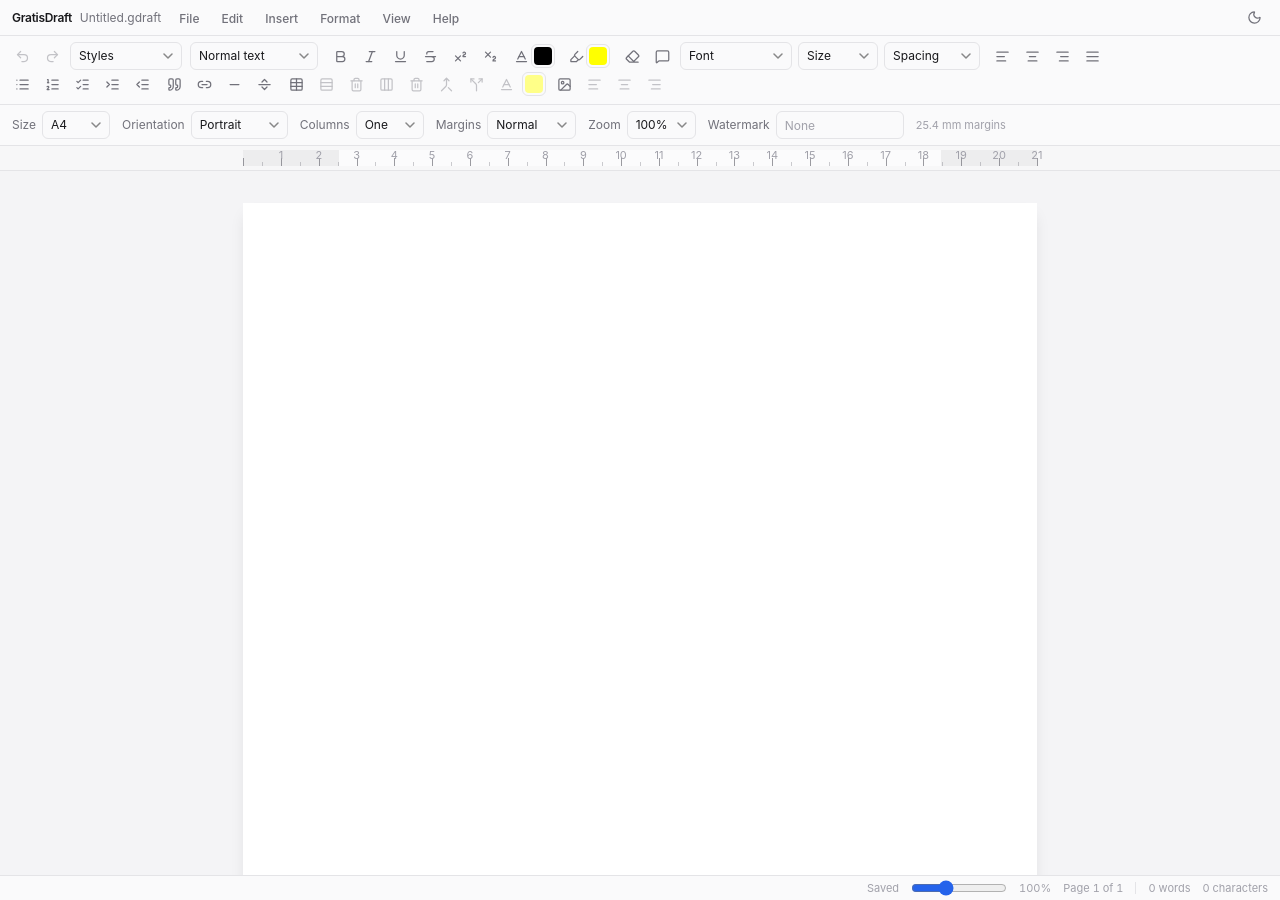
Test: App shell › has a style preset select and opens the character dialog
expect the dropdown named "Style preset" is shown: met, box x1=70 y1=42 x2=182 y2=70
Step 1. Click the button "Format" → (340, 18), box x1=310 y1=6 x2=370 y2=30
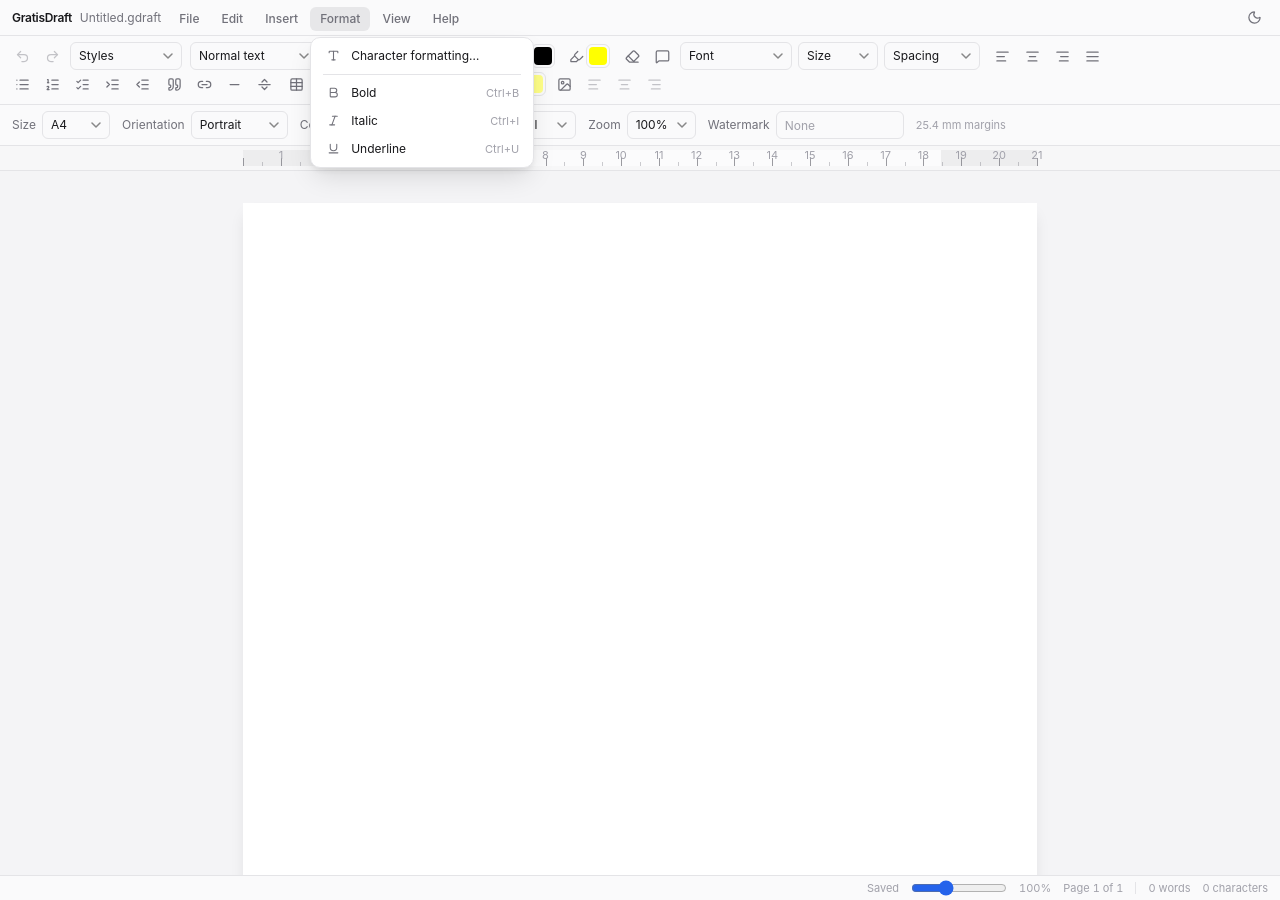
Step 2. Click the menu item "Character formatting…" → (422, 56), box x1=315 y1=42 x2=529 y2=70
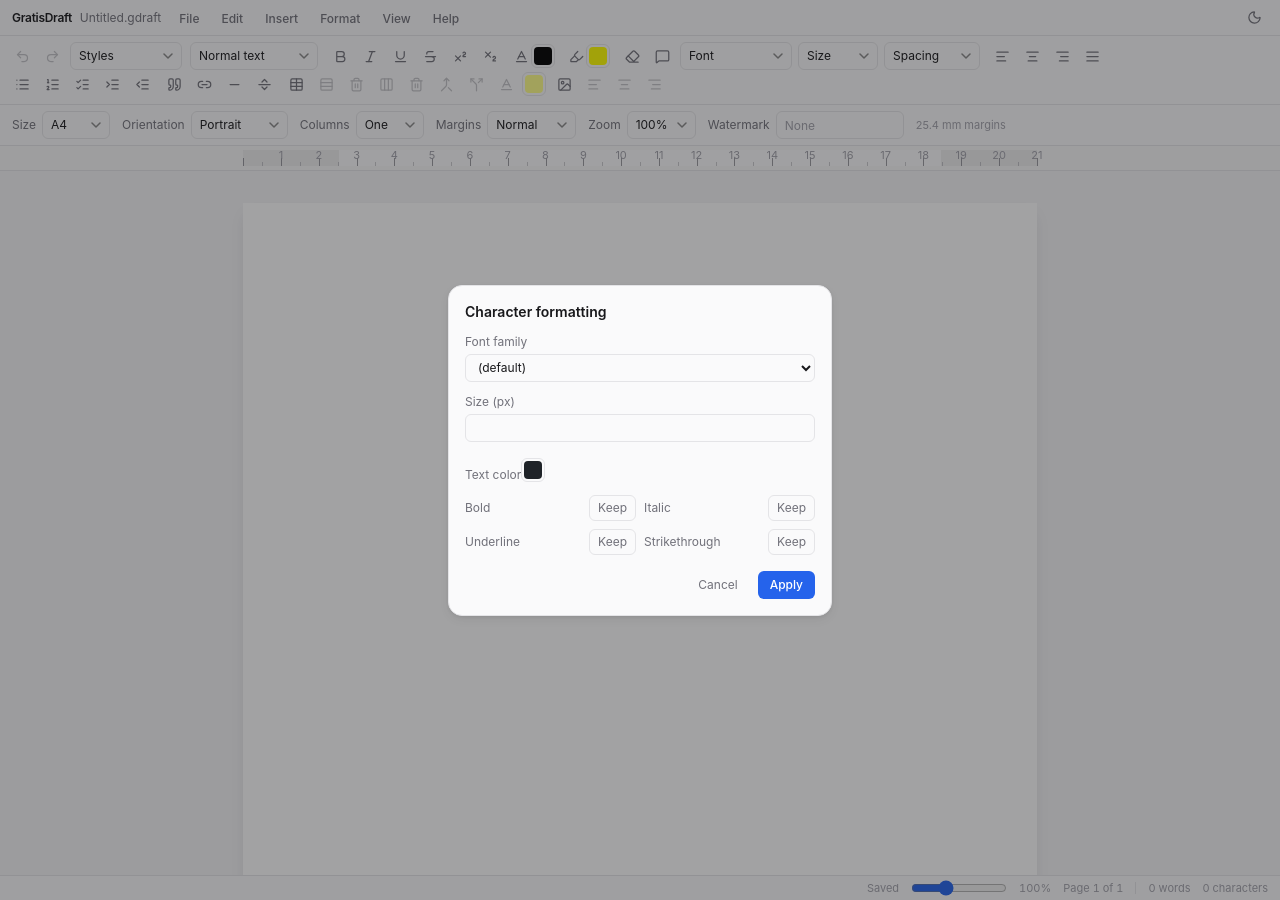
expect the element with test id "character-dialog" is shown: met
Step 3. Click the button "Cancel" → (718, 584), box x1=686 y1=570 x2=750 y2=598
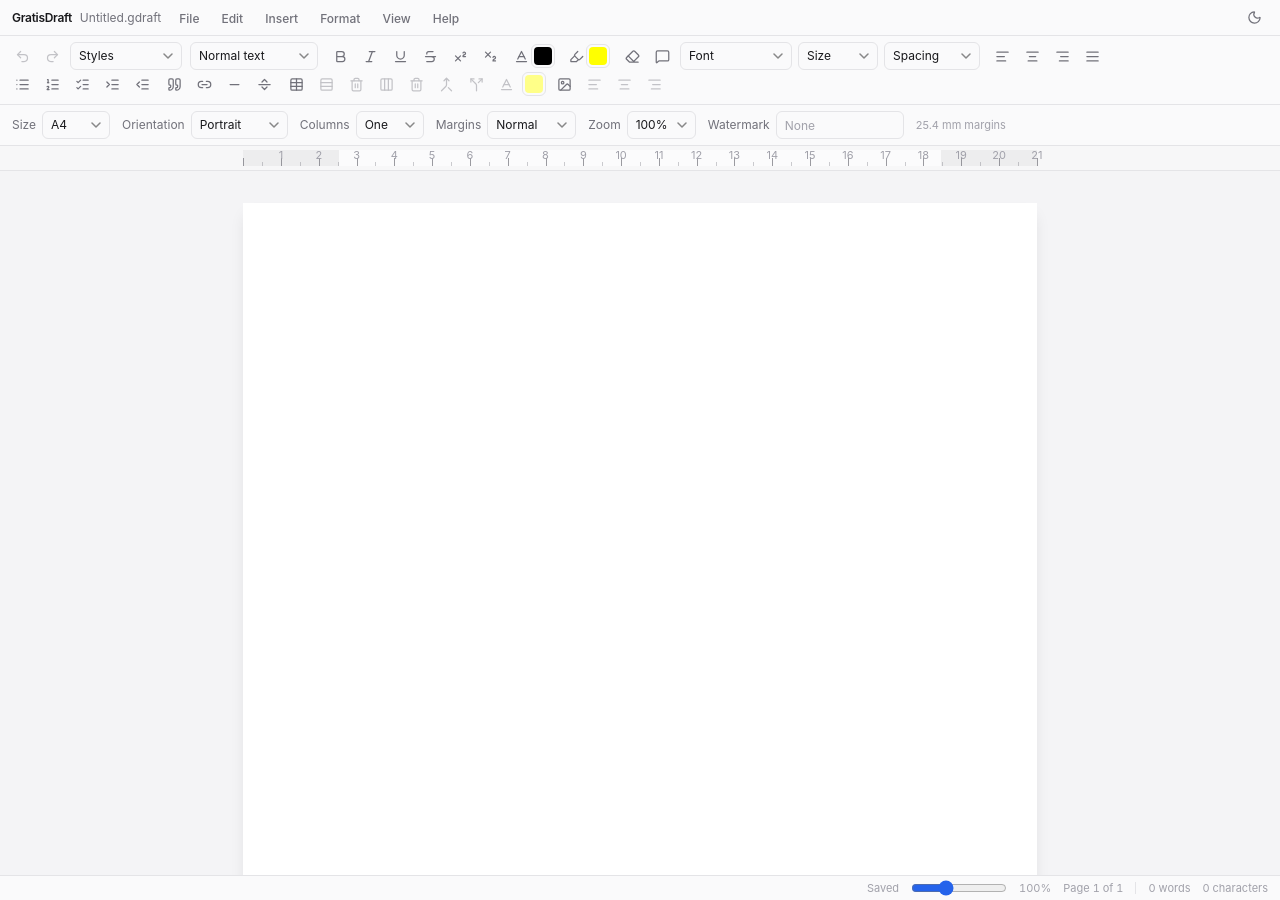
expect the element with test id "character-dialog" is gone: met
